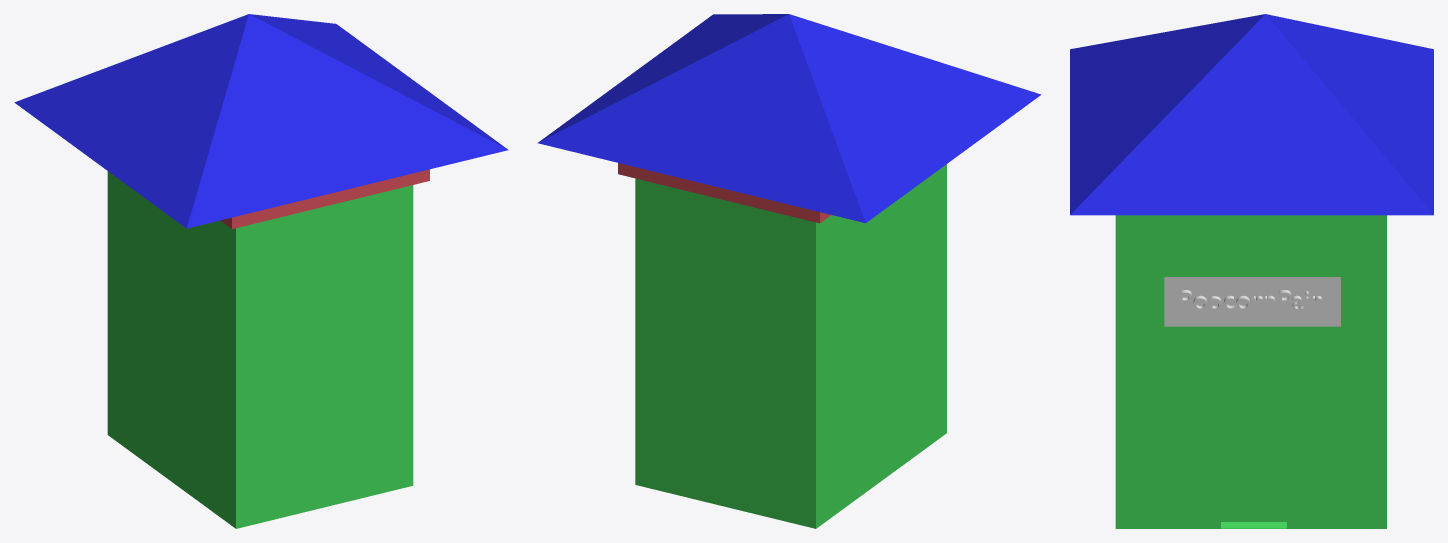
The model's file is build1.glb.
The picture shows the model from 3 angles, left to right: view 1: azimuth 30°, elevation 25°; view 2: azimuth 150°, elevation 25°; view 3: azimuth 270°, elevation 25°; orthographic projection. The views are drawn at different scales.
Parts seen in each view (by area): view 1: Build1Wall, build1Roof, build1Frame; view 2: Build1Wall, build1Roof, build1Frame; view 3: Build1Wall, build1Roof, Build1Sign, Build1Text.
Boxes of the visible parts, bbox=[...] form: Build1Wall: bbox=[107, 171, 413, 528]; build1Roof: bbox=[14, 14, 508, 228]; build1Frame: bbox=[220, 169, 429, 228]; Build1Wall: bbox=[635, 164, 946, 528]; build1Roof: bbox=[537, 14, 1041, 223]; build1Frame: bbox=[618, 163, 830, 223]; Build1Wall: bbox=[1115, 215, 1386, 528]; build1Roof: bbox=[1070, 14, 1433, 215]; Build1Sign: bbox=[1164, 277, 1340, 326]; Build1Text: bbox=[1179, 290, 1321, 316].
Bounding box in the file's own units: 13.63 × 18.54 × 12.64.
